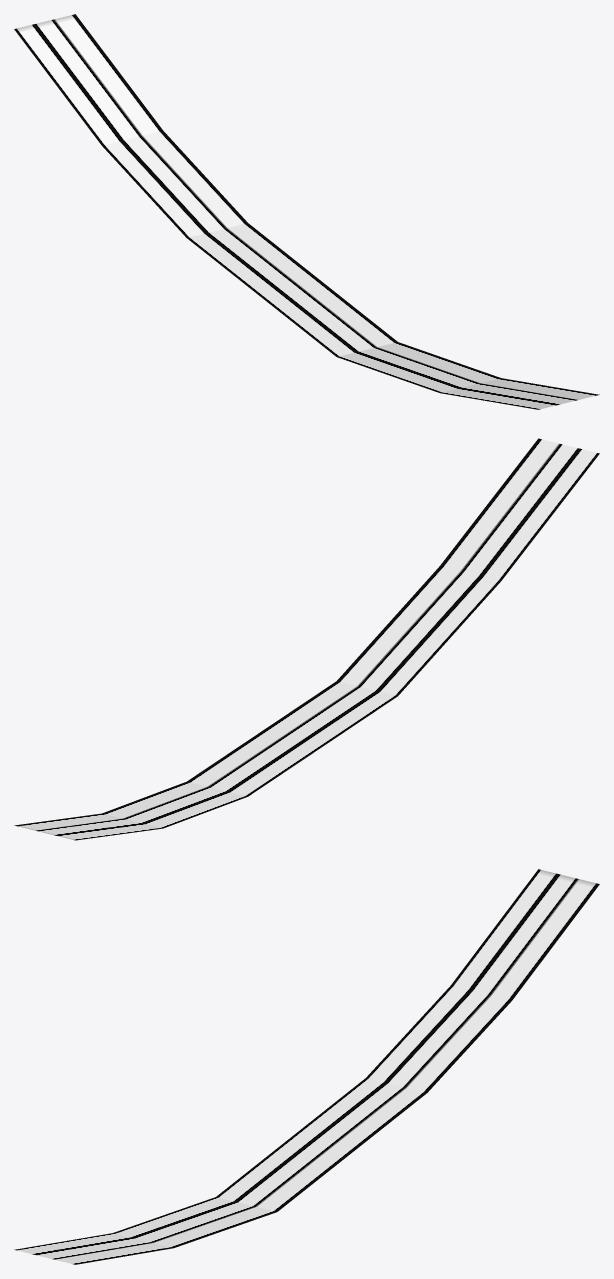
Rendered from Kabel_Lichtleitungx8_2598.glb.
3 renders of one model, top to bottom at view 1: azimuth 30°, elevation 25°; view 2: azimuth 150°, elevation 25°; view 3: azimuth 330°, elevation 25°, orthographic.
Visible parts, largest first — view 1: pPlaneShape14; view 2: pPlaneShape14; view 3: pPlaneShape14.
Boxes of the visible parts, left/top/right/bottom form: pPlaneShape14: left=14, top=14, right=599, bottom=409; pPlaneShape14: left=14, top=438, right=599, bottom=840; pPlaneShape14: left=14, top=869, right=599, bottom=1264.
Bounding box in the file's own units: 0.1354 × 0.1995 × 2.
Materials: 1 (1 with a texture image).
